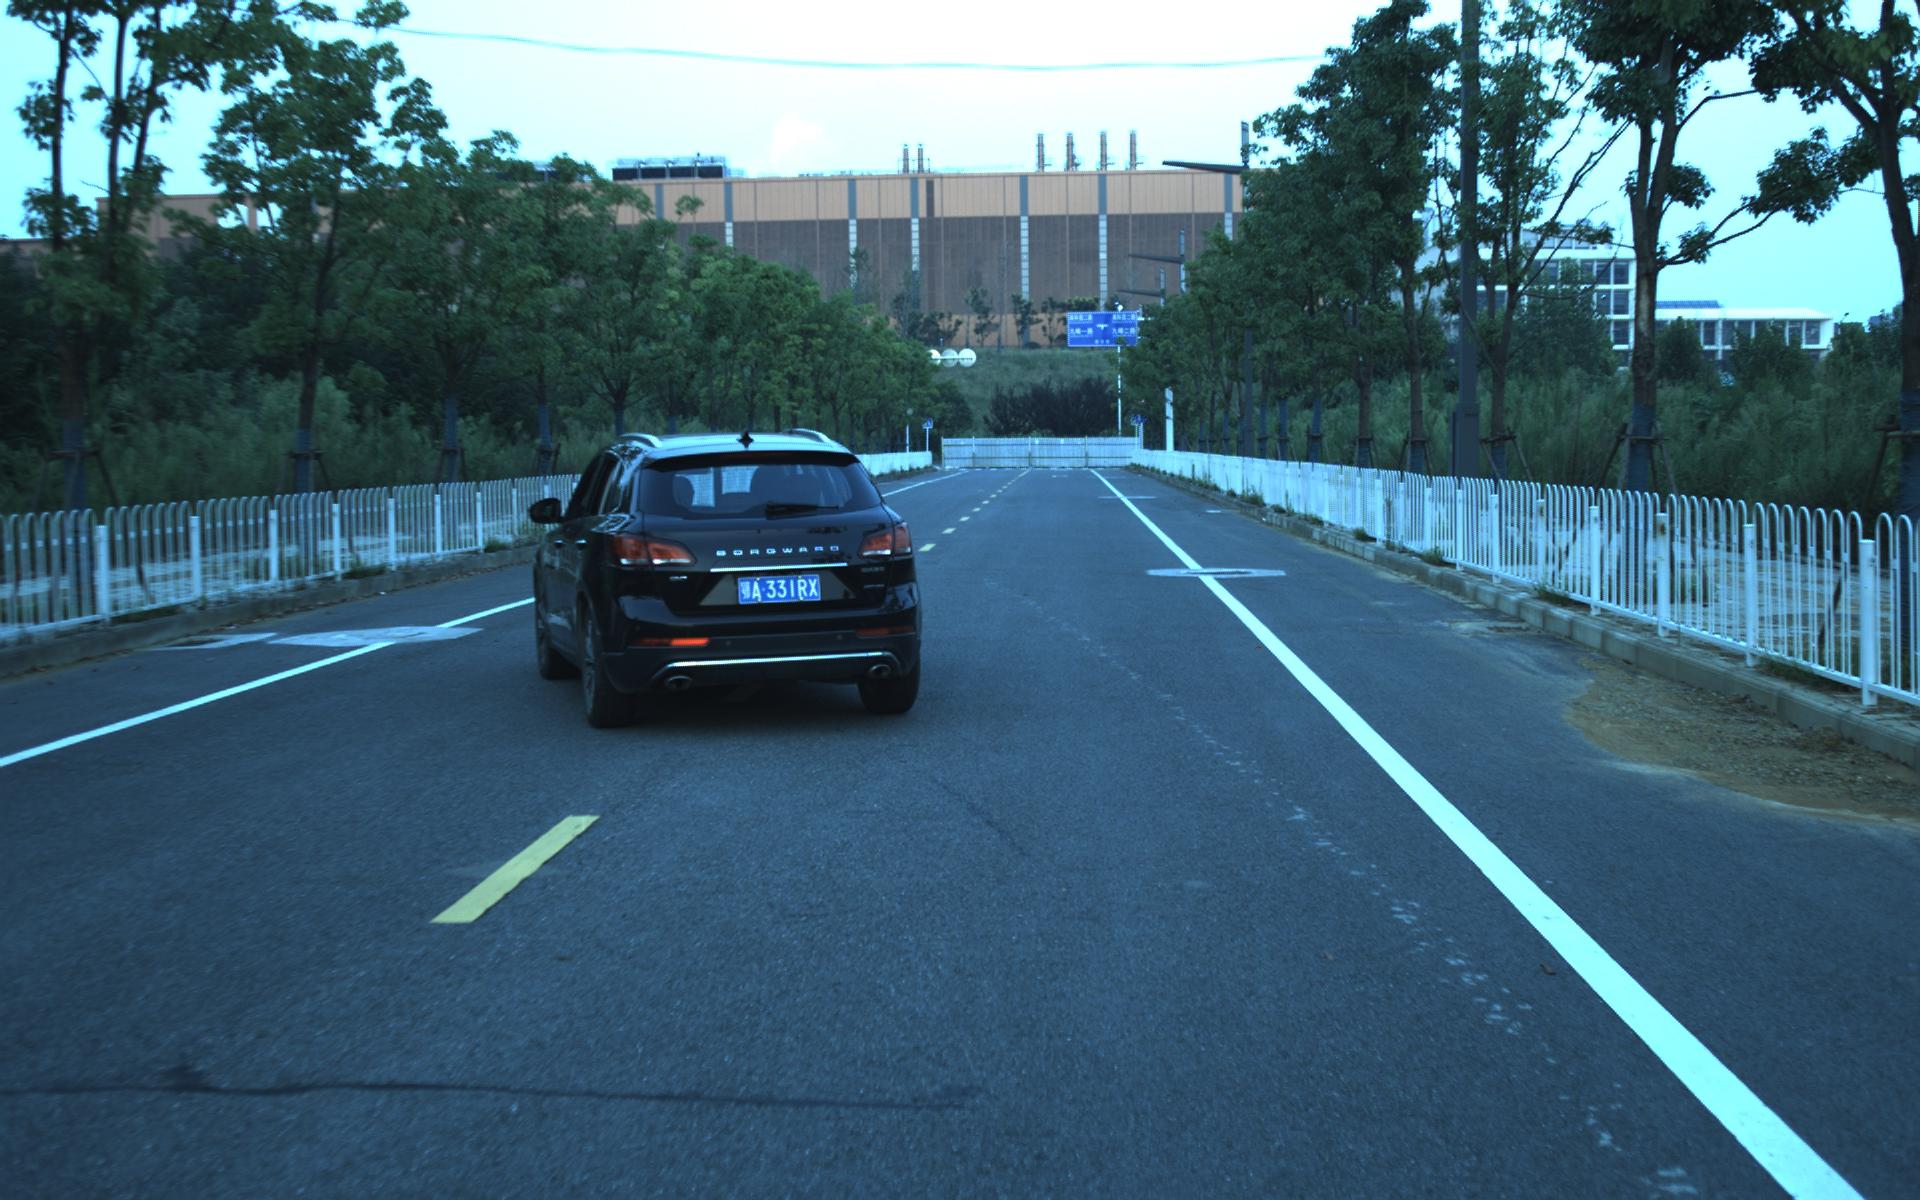Car: (518, 422, 932, 740)
